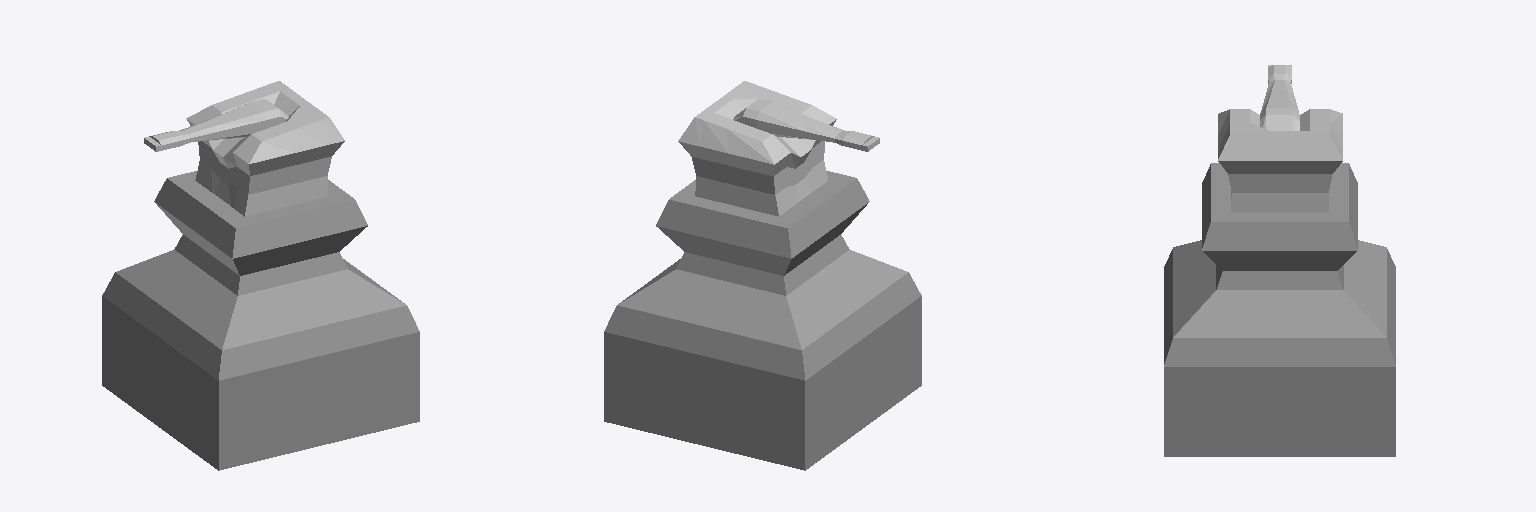
File: FlakCannon.obj
3 views of the same model, side by side, from view 1: azimuth 30°, elevation 25°; view 2: azimuth 150°, elevation 25°; view 3: azimuth 270°, elevation 25° (orthographic).
Parts seen in each view (by area): view 1: FlakCannonPlinth_Cube, FlakCannonHousing_Cube.001, FlakCannonBarrel_Cube.002; view 2: FlakCannonPlinth_Cube, FlakCannonHousing_Cube.001, FlakCannonBarrel_Cube.002; view 3: FlakCannonPlinth_Cube, FlakCannonHousing_Cube.001, FlakCannonBarrel_Cube.002.
Part boxes in pixels (x1,y1,x2,y2): FlakCannonPlinth_Cube: (102, 171, 419, 470); FlakCannonHousing_Cube.001: (186, 81, 344, 216); FlakCannonBarrel_Cube.002: (144, 99, 288, 151); FlakCannonPlinth_Cube: (604, 171, 921, 470); FlakCannonHousing_Cube.001: (678, 81, 836, 216); FlakCannonBarrel_Cube.002: (733, 98, 879, 151); FlakCannonPlinth_Cube: (1164, 163, 1395, 456); FlakCannonHousing_Cube.001: (1218, 109, 1342, 212); FlakCannonBarrel_Cube.002: (1260, 65, 1299, 130).
Size of the model in its own units: 3.54 by 4.76 by 3.37.